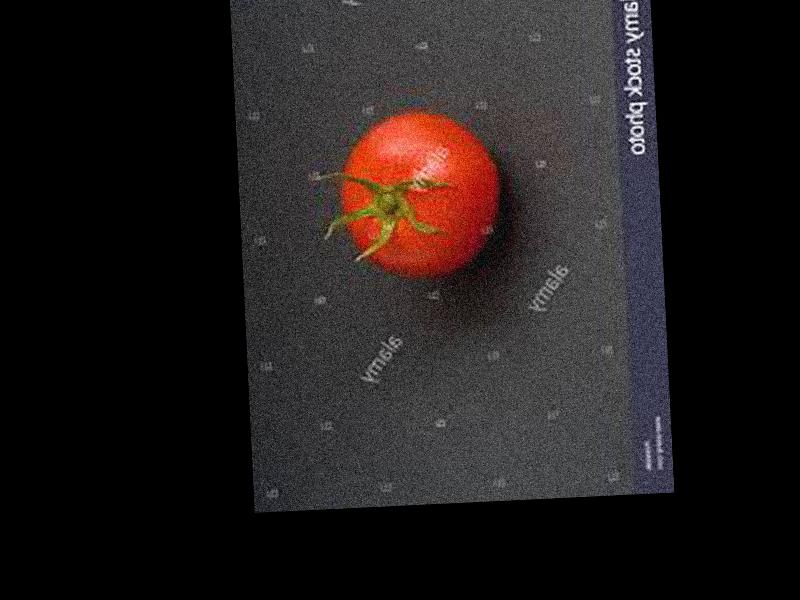Tomato: (336, 108, 497, 281)
